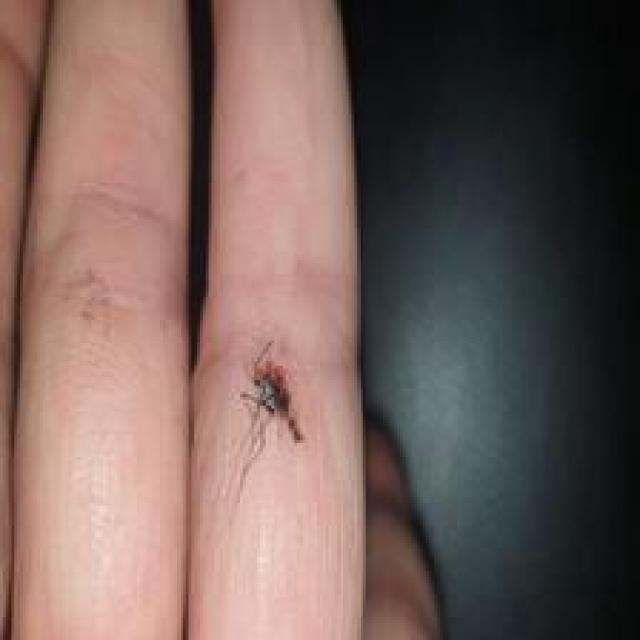Aedes albopictus: (239, 339, 304, 447)
